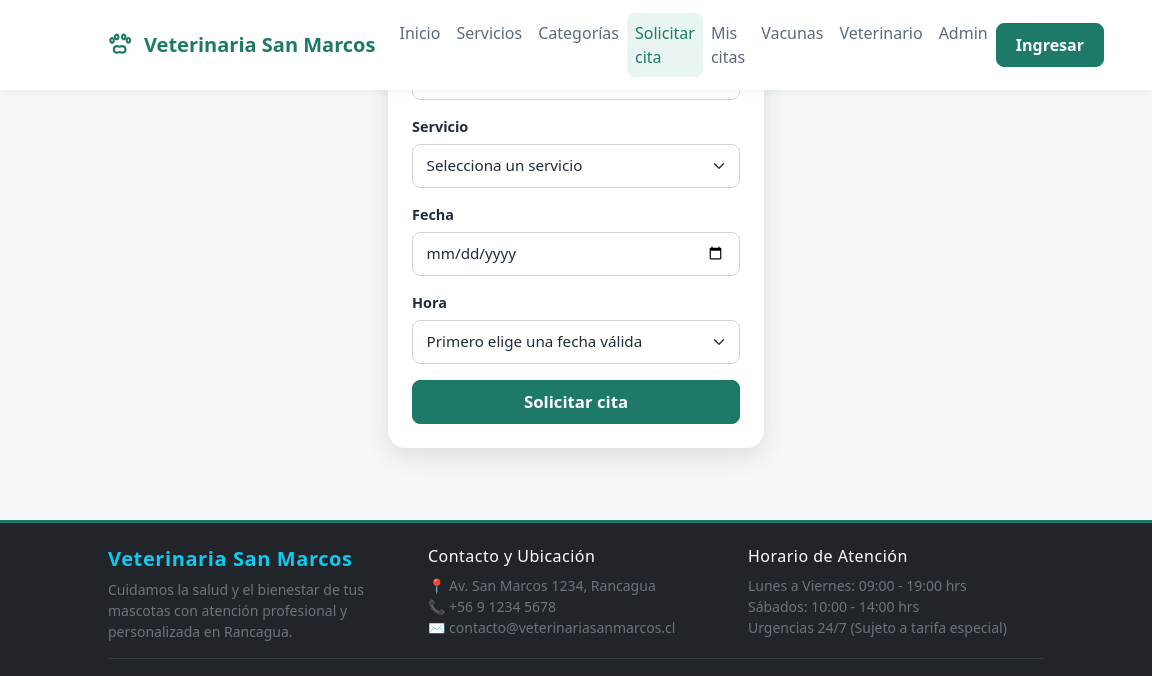
Test: Página SolicitarCita › muestra errores si se envía vacío
(page scrolled)
Click the button "Solicitar cita": (576, 402) [412,380,740,424]
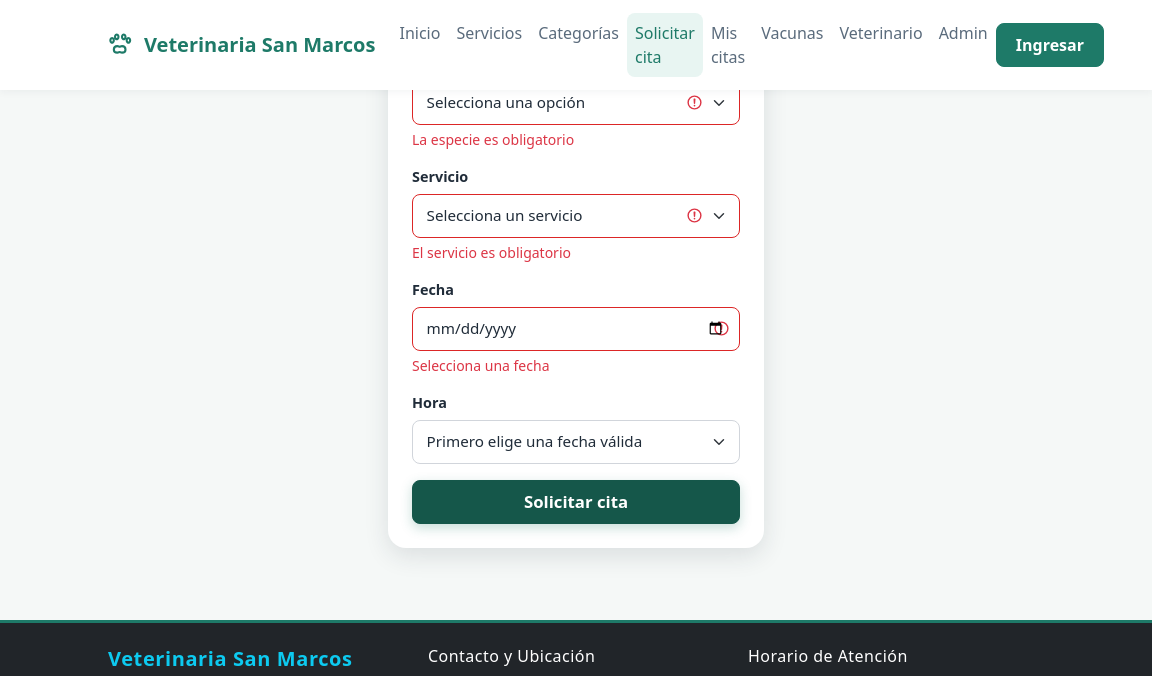
Result: the text "La especie es obligatorio" is shown at [412,130,574,149]
Result: the text "El servicio es obligatorio" is shown at [412,243,571,262]
Result: the text "Selecciona una fecha" is shown at [412,356,550,375]
